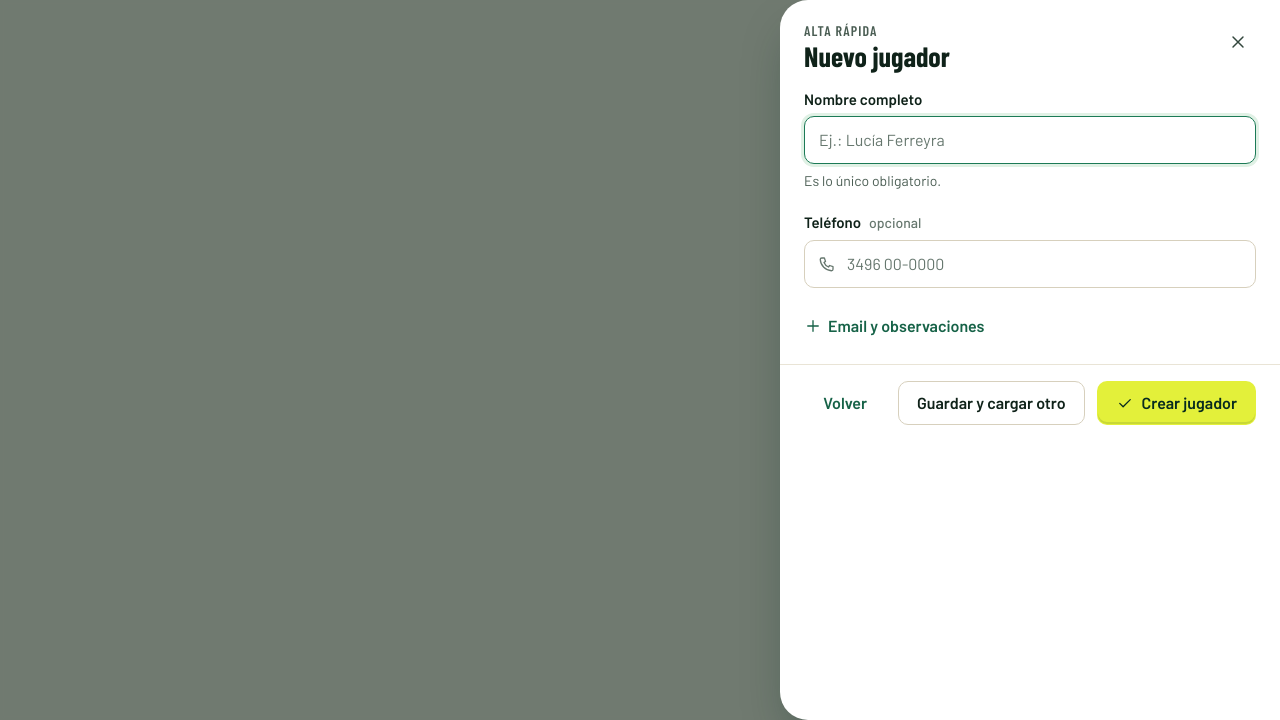
PersonEditor · membresía › avisa si ya existe una ficha con el mismo nombre
The width and height of the screenshot is (1280, 720).
Type "ana pérez" into the field labelled "Nombre completo" at (1030, 140), box [804, 116, 1256, 164]
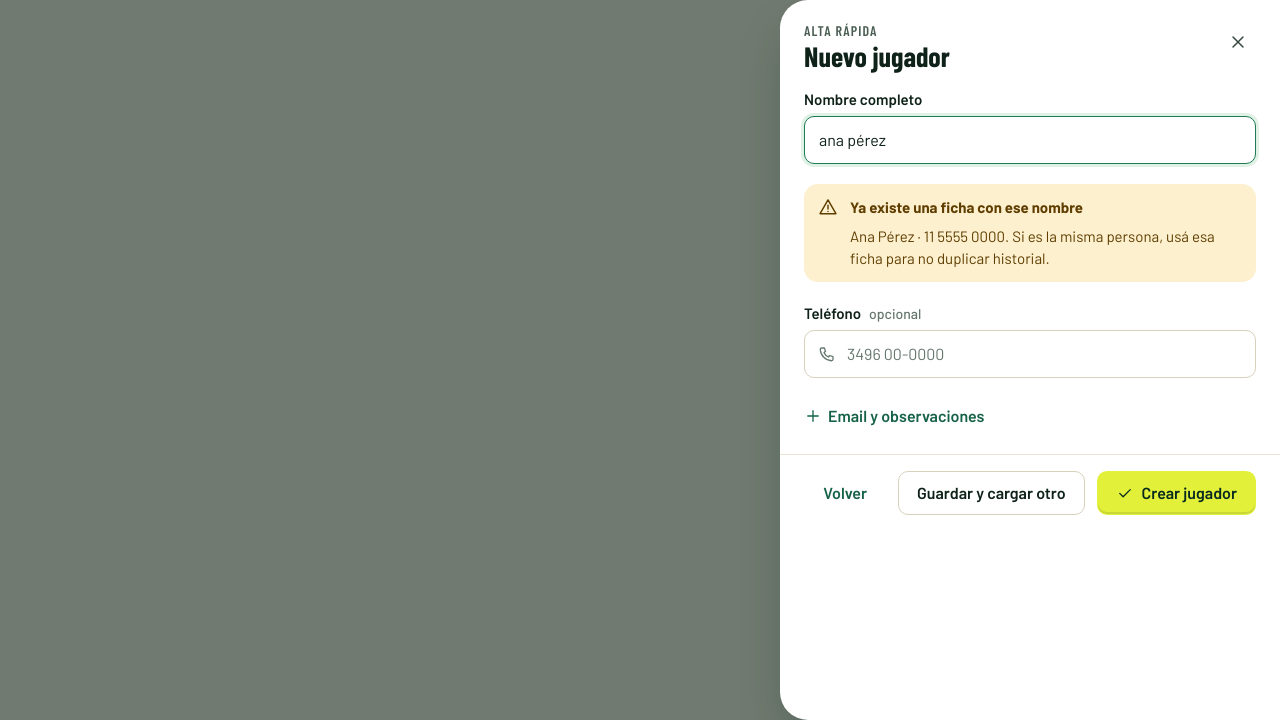
Expected: the text "Ya existe una ficha con ese nombre" is shown, [850, 198, 1083, 216]
